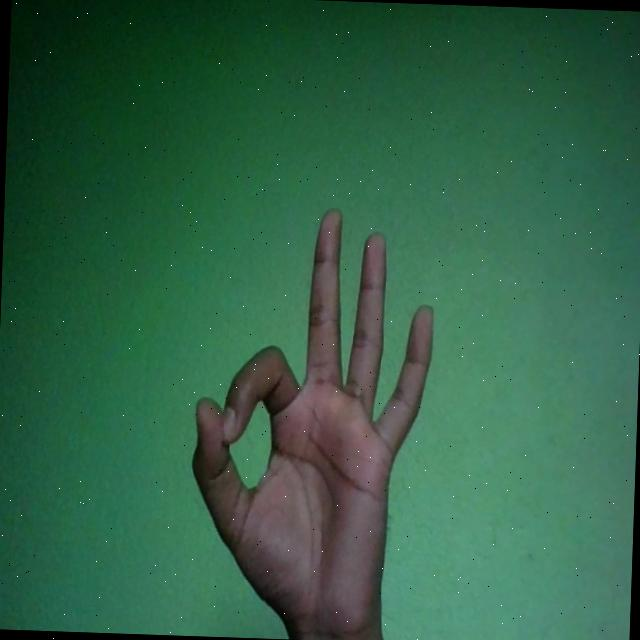Rock On: (184, 198, 437, 640)
